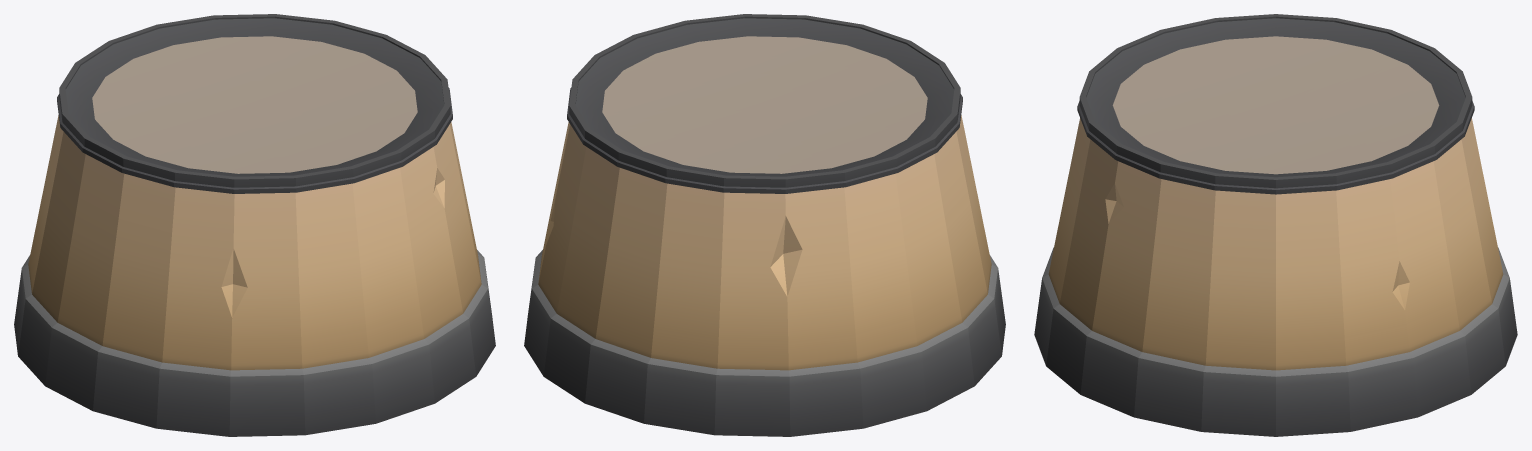
The model's file is Fort Base Circle 04.fbx.
3 renders of one model, left to right at view 1: azimuth 30°, elevation 25°; view 2: azimuth 150°, elevation 25°; view 3: azimuth 270°, elevation 25°, orthographic.
Visible parts, largest first — view 1: Fort Base Circle 04, Fort Base Circle 04 high; view 2: Fort Base Circle 04, Fort Base Circle 04 high; view 3: Fort Base Circle 04, Fort Base Circle 04 high.
Part boxes in pixels (box(x1,y1,x2,y2)): Fort Base Circle 04: box(28, 18, 481, 370); Fort Base Circle 04 high: box(14, 14, 495, 436); Fort Base Circle 04: box(538, 18, 991, 370); Fort Base Circle 04 high: box(524, 14, 1005, 436); Fort Base Circle 04: box(1048, 18, 1503, 370); Fort Base Circle 04 high: box(1034, 14, 1517, 436).
Bounding box in the file's own units: 19.41 × 10.54 × 19.41.
Materials: 1 (1 with a texture image).
